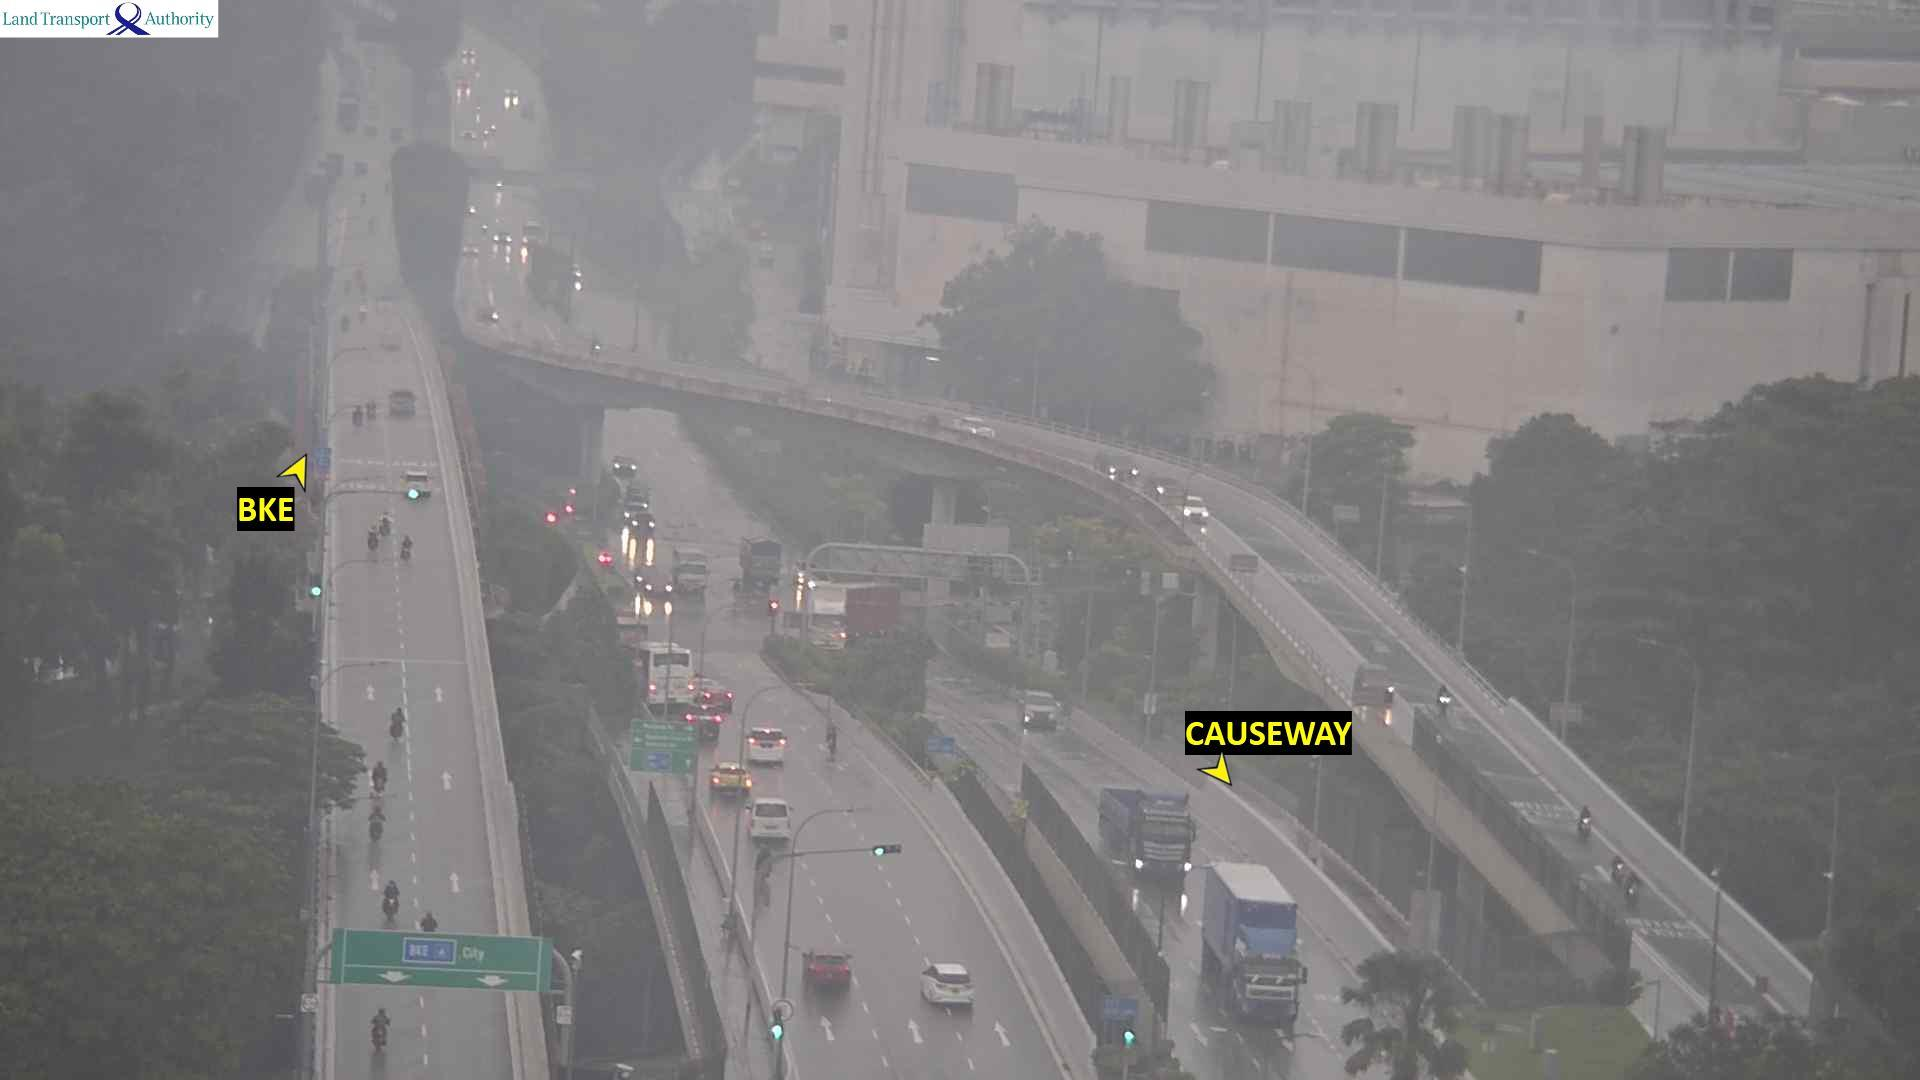vehicle-causeway-johor: (1196, 860, 1315, 1031), (1104, 786, 1199, 872), (1352, 662, 1396, 707), (1095, 447, 1139, 488), (1019, 690, 1058, 731), (1145, 476, 1189, 509), (1176, 493, 1209, 524), (959, 419, 994, 439), (1623, 873, 1640, 906), (1578, 806, 1594, 839), (1436, 683, 1452, 712), (1611, 855, 1623, 884), (488, 306, 500, 323), (589, 339, 601, 353)
vehicle-causeway-singapore: (640, 641, 694, 704), (920, 963, 977, 1009), (802, 949, 860, 994), (744, 803, 791, 841), (744, 731, 790, 766), (682, 704, 720, 740), (711, 764, 753, 793), (402, 468, 431, 504), (386, 390, 418, 421), (372, 1007, 389, 1050), (388, 708, 406, 744), (382, 880, 398, 916), (369, 806, 384, 843), (372, 760, 388, 791), (377, 510, 392, 537), (400, 538, 414, 562), (365, 400, 378, 425), (421, 915, 438, 932), (352, 404, 363, 427), (368, 525, 377, 549)
